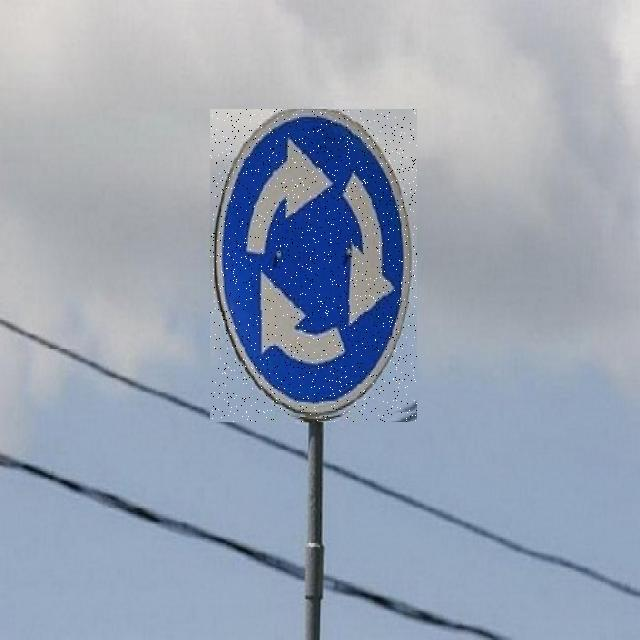roundabout: (210, 109, 417, 422)
